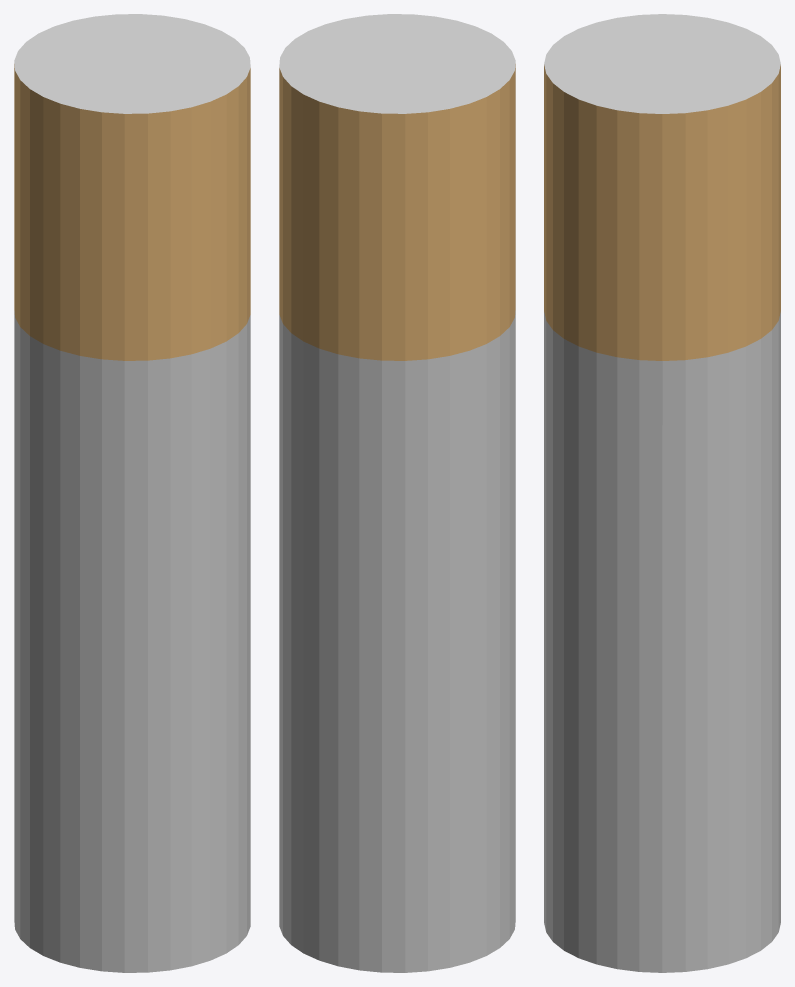
File: cigarette_shorter2.glb
3 renders of one model, left to right at view 1: azimuth 30°, elevation 25°; view 2: azimuth 150°, elevation 25°; view 3: azimuth 270°, elevation 25°, orthographic.
Parts seen in each view (by area): view 1: Cylinder; view 2: Cylinder; view 3: Cylinder.
Boxes of the visible parts, x1,y1,x2,y2 form: Cylinder: [14, 14, 250, 972]; Cylinder: [279, 14, 515, 972]; Cylinder: [544, 14, 780, 972].
Bounding box in the file's own units: 2 × 8 × 2.
